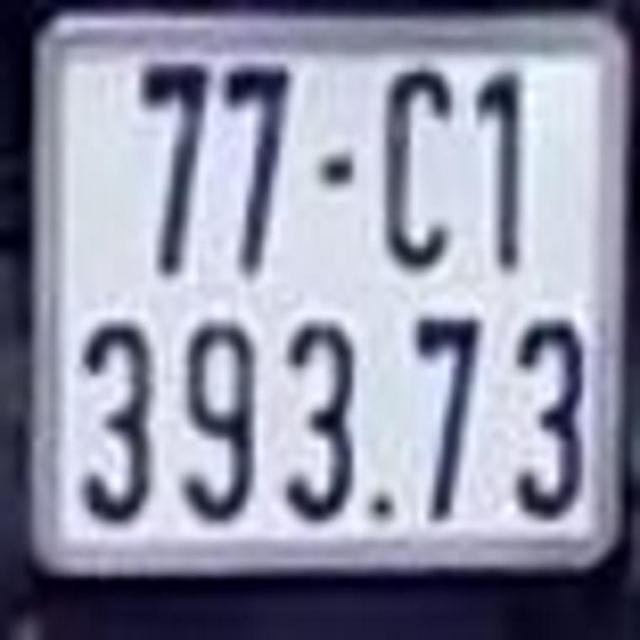1: (468, 63, 528, 274)
3: (507, 306, 589, 522), (280, 316, 362, 530), (76, 316, 156, 524)
7: (132, 54, 212, 276), (218, 55, 292, 278), (408, 311, 483, 524)
9: (180, 312, 259, 524)
C: (376, 59, 453, 272)
